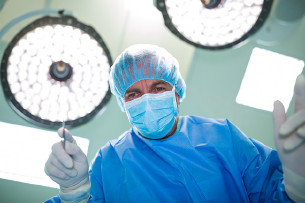face_mask: (122, 69, 179, 140)
